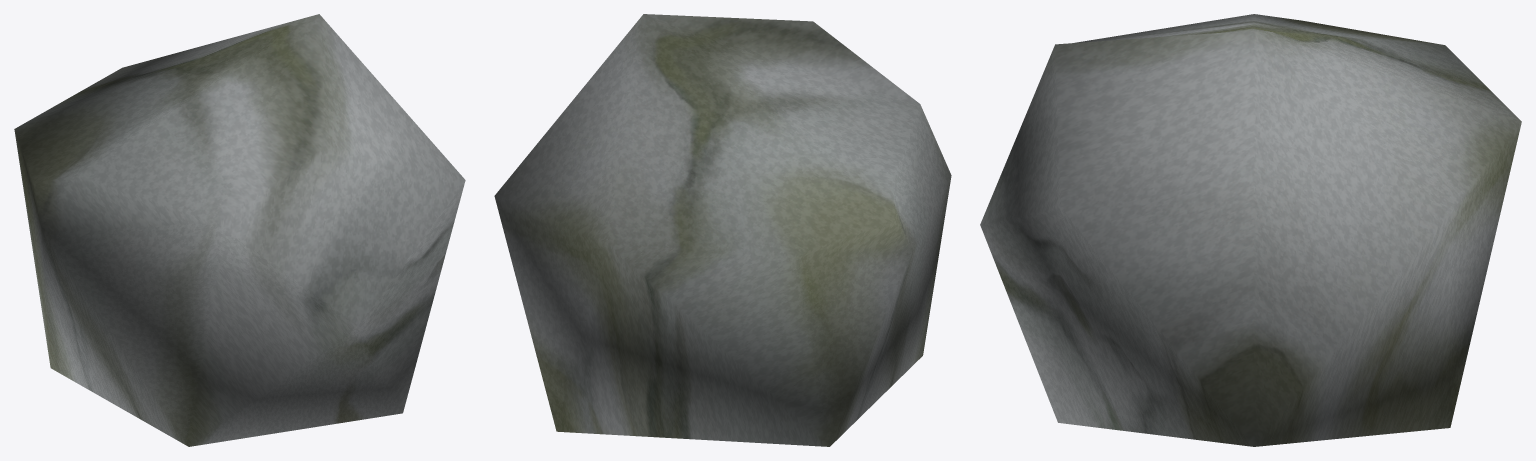
Rendered from Rock_small01.fbx.
3 views of the same model, side by side, from view 1: azimuth 30°, elevation 25°; view 2: azimuth 150°, elevation 25°; view 3: azimuth 270°, elevation 25° (orthographic). The views are drawn at different scales.
Parts seen in each view (by area): view 1: Rock_small01; view 2: Rock_small01; view 3: Rock_small01.
Part boxes in pixels (x1,y1,x2,y2): Rock_small01: (14, 14, 465, 446); Rock_small01: (494, 14, 951, 446); Rock_small01: (980, 14, 1521, 446).
Size of the model in its own units: 0.1976 by 0.1682 by 0.2077.
1 material, 1 textured.
